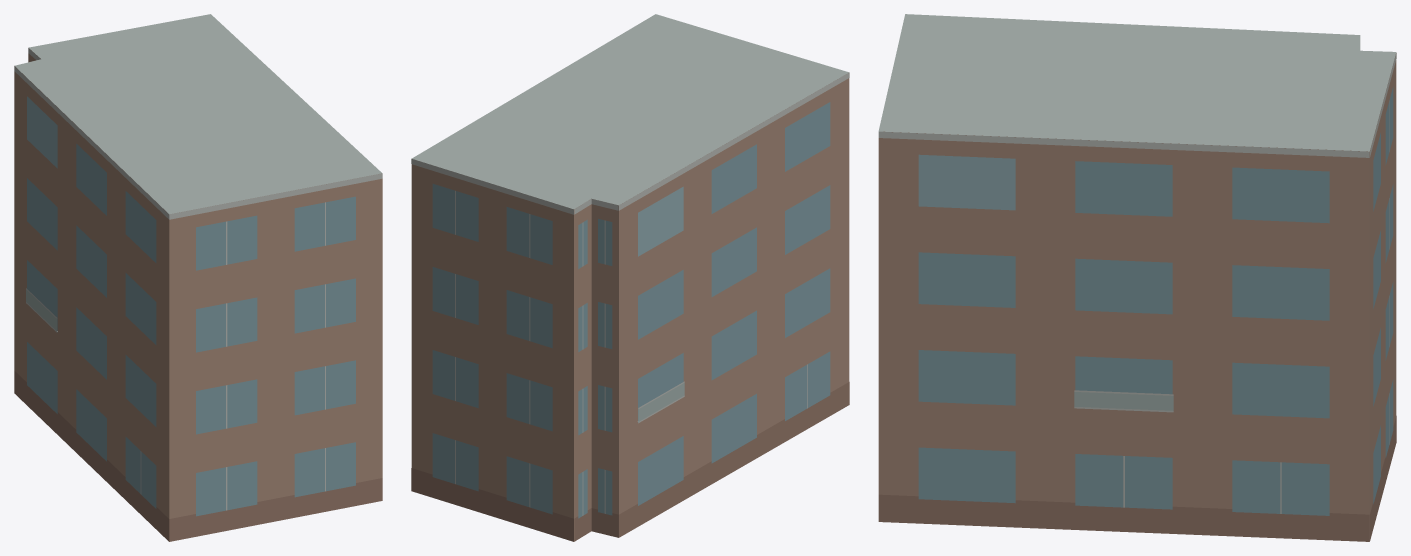
The model's file is survey-upis-32769347.glb.
3 views of the same model, side by side, from view 1: azimuth 30°, elevation 25°; view 2: azimuth 150°, elevation 25°; view 3: azimuth 270°, elevation 25° (orthographic). The views are drawn at different scales.
Visible parts, largest first — view 1: survey-upis-32769347.tmp; view 2: survey-upis-32769347.tmp; view 3: survey-upis-32769347.tmp.
Part boxes in pixels (left/top/right/bottom): survey-upis-32769347.tmp: left=14, top=14, right=382, bottom=541; survey-upis-32769347.tmp: left=411, top=14, right=849, bottom=541; survey-upis-32769347.tmp: left=878, top=14, right=1396, bottom=541.
Size of the model in its own units: 11.15 by 14.75 by 17.75.
